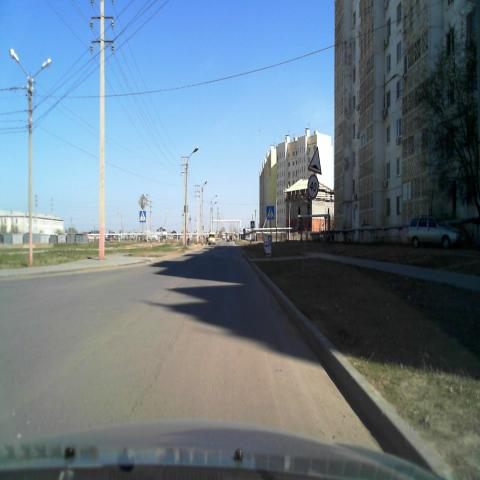3_24: (306, 175, 320, 200)
